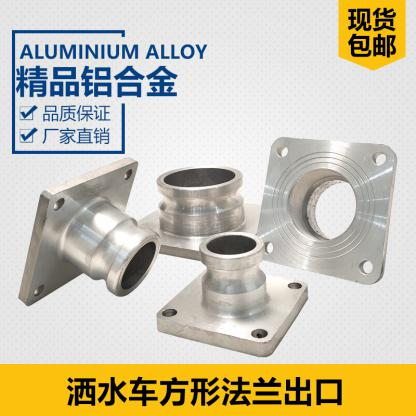FOD: (253, 132, 400, 286), (18, 154, 161, 308), (155, 231, 315, 357), (120, 161, 273, 265)
